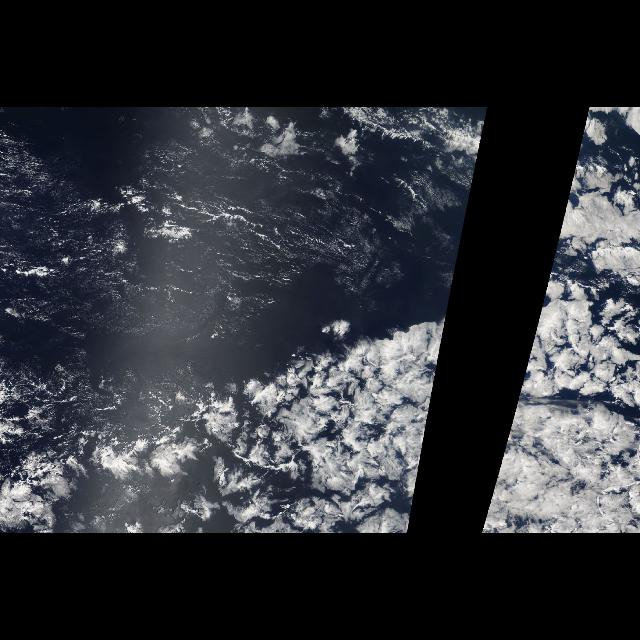Flower: (3, 293, 451, 533), (480, 293, 640, 533), (548, 125, 640, 279), (464, 125, 486, 221)
Sugar: (8, 132, 314, 334)
